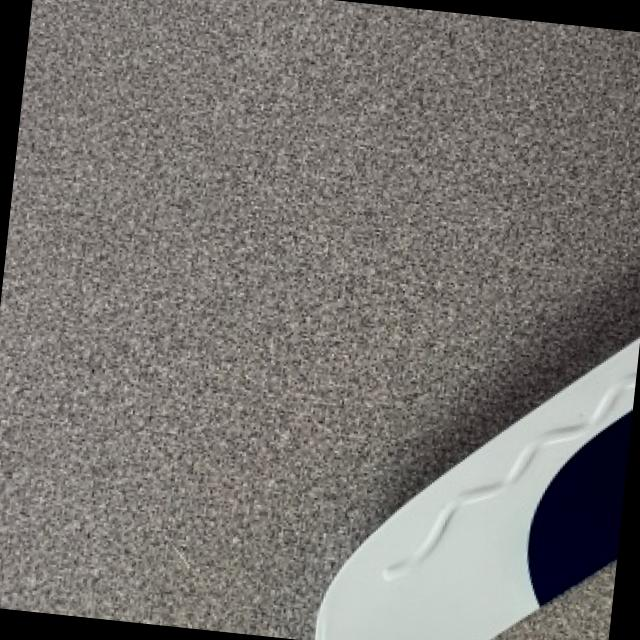healthy: (319, 339, 640, 640)
